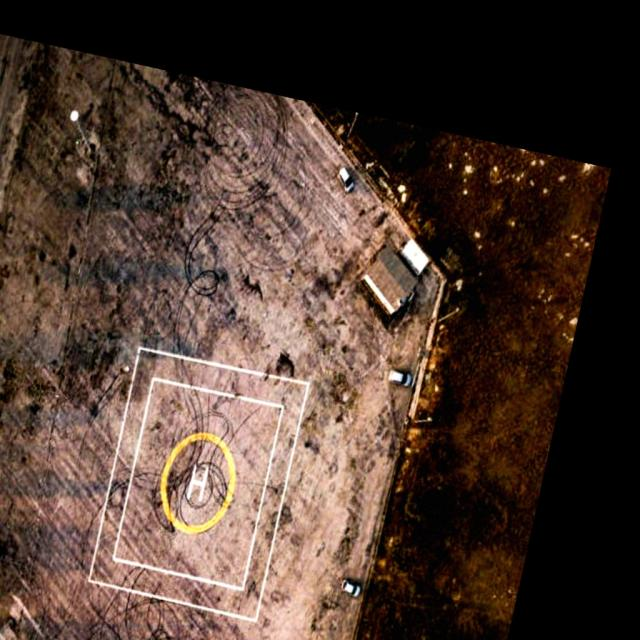helipad: (158, 429, 239, 536)
